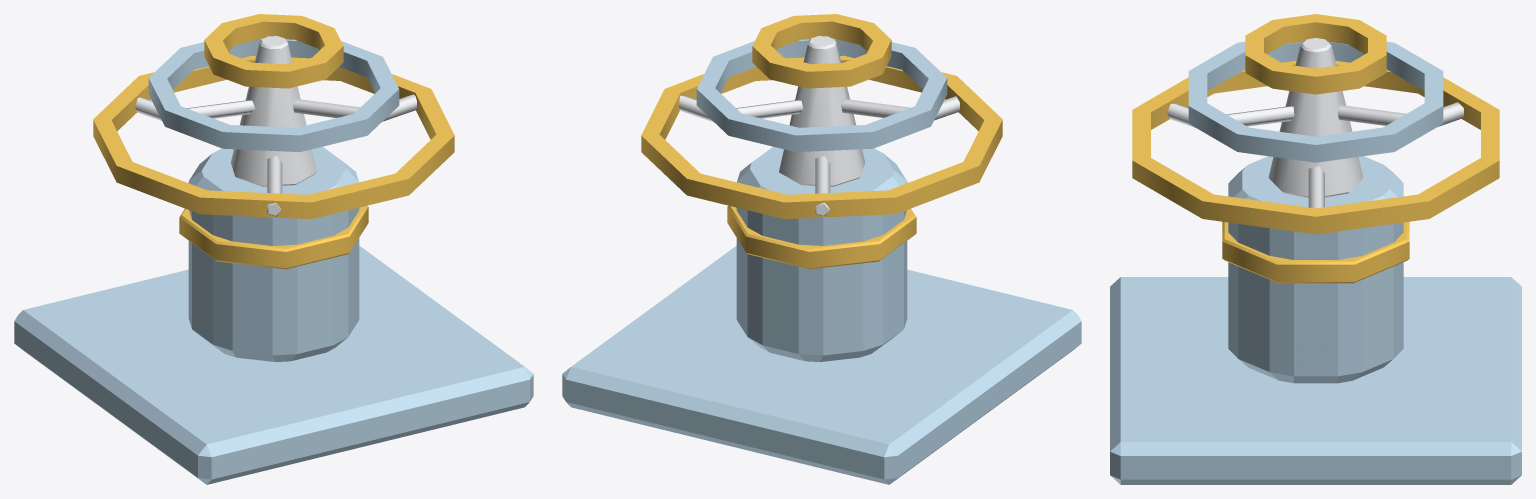
Rendered from R4X_SupportTurretDeployer_LOD1.glb.
3 views of the same model, side by side, from view 1: azimuth 30°, elevation 25°; view 2: azimuth 150°, elevation 25°; view 3: azimuth 270°, elevation 25° (orthographic). The views are drawn at different scales.
Parts seen in each view (by area): view 1: R4X_SupportTurretDeployer_LOD1; view 2: R4X_SupportTurretDeployer_LOD1; view 3: R4X_SupportTurretDeployer_LOD1.
Part boxes in pixels (x1,y1,x2,y2): R4X_SupportTurretDeployer_LOD1: [14, 14, 533, 484]; R4X_SupportTurretDeployer_LOD1: [562, 14, 1081, 484]; R4X_SupportTurretDeployer_LOD1: [1110, 14, 1521, 484].
Bounding box in the file's own units: 0.52 × 0.5 × 0.52.
